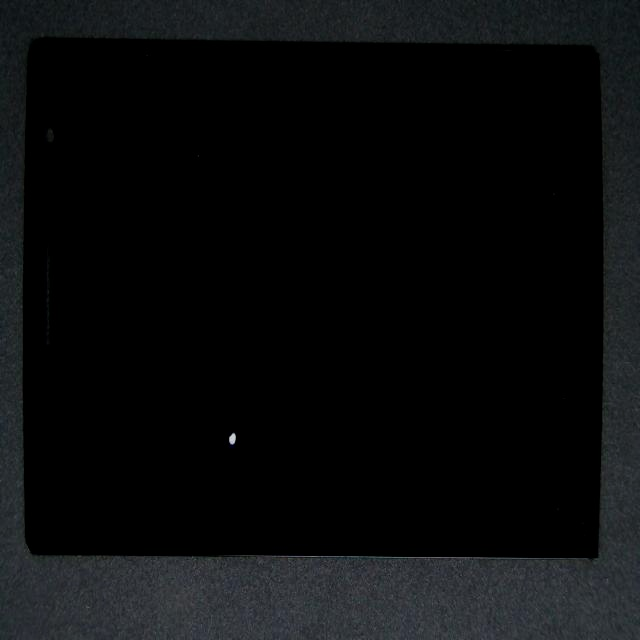stain: (124, 180, 338, 634)
